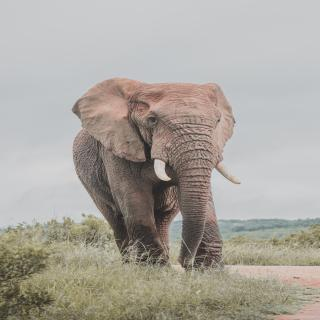Elephant: (58, 73, 256, 280)
